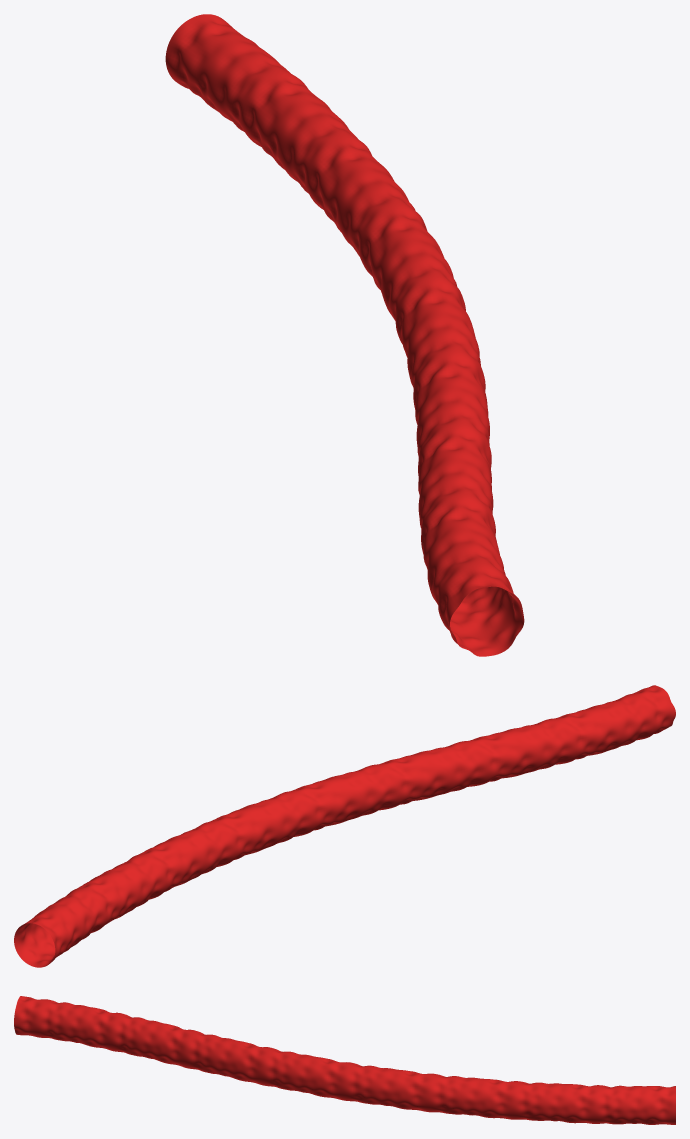
Rendered from VeinBack.fbx.
3 views of the same model, one above another, from view 1: azimuth 30°, elevation 25°; view 2: azimuth 150°, elevation 25°; view 3: azimuth 270°, elevation 25° (orthographic). The views are drawn at different scales.
Visible parts, largest first — view 1: VeinBack; view 2: VeinBack; view 3: VeinBack.
Part boxes in pixels (bbox=[...]): VeinBack: bbox=[165, 14, 524, 656]; VeinBack: bbox=[14, 685, 675, 967]; VeinBack: bbox=[14, 996, 675, 1124].
Bounding box in the file's own units: 7650 × 1192 × 20127.
